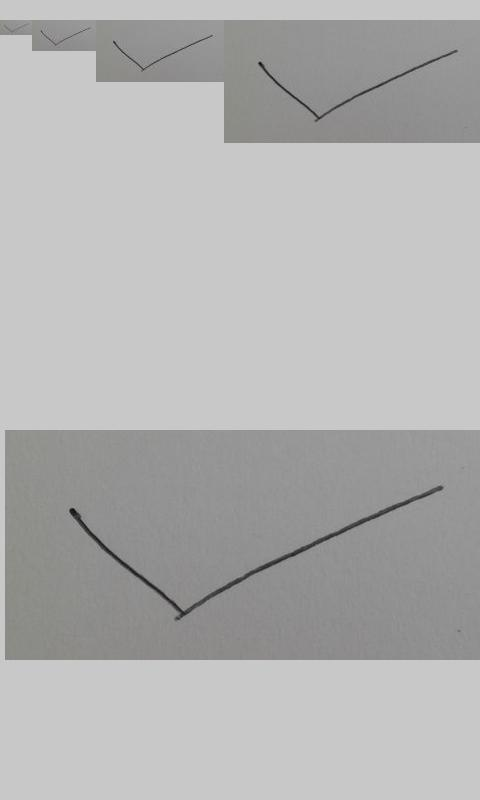check_box: (70, 486, 445, 622), (258, 50, 458, 122), (113, 34, 214, 71), (40, 27, 91, 46), (3, 23, 29, 33)
